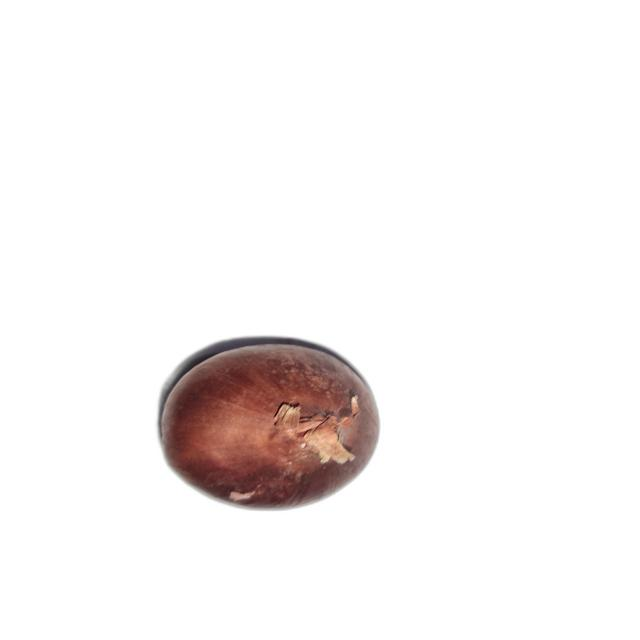onion: (162, 343, 384, 510)
